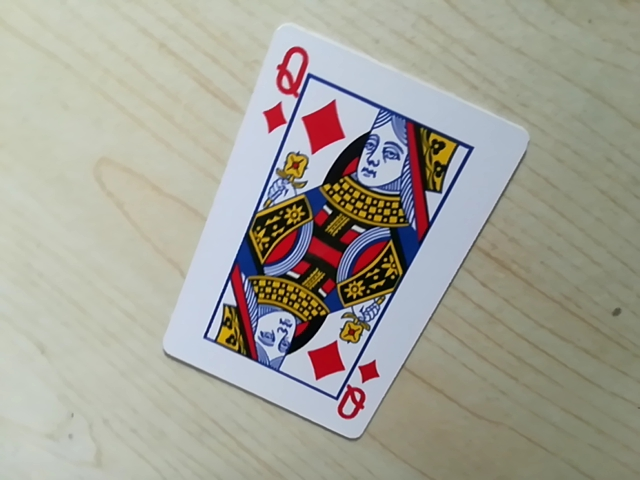fk q: (257, 33, 323, 138), (321, 366, 383, 428)
